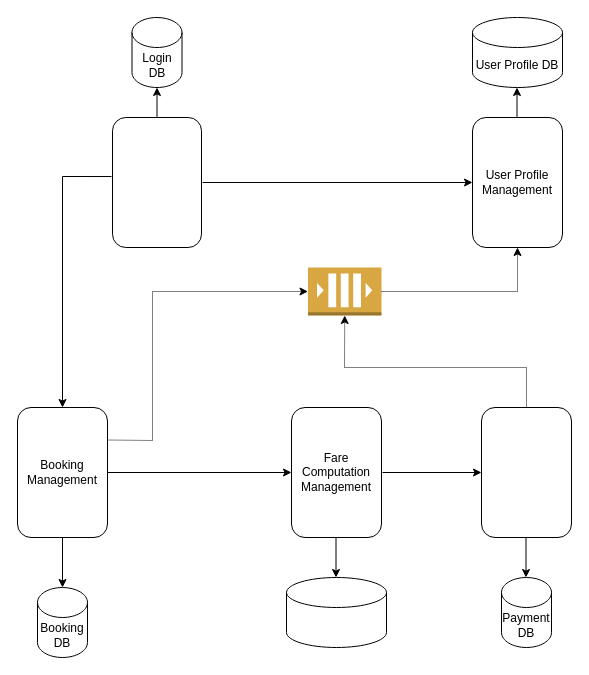
This 589x675 diagram has some shape labels left out. Here are the shapes that lost their labels. From the top down, the centre of each, then its label:
point (157, 182): Login Management
point (526, 472): Payment Management
point (336, 612): Fare Computation DB
